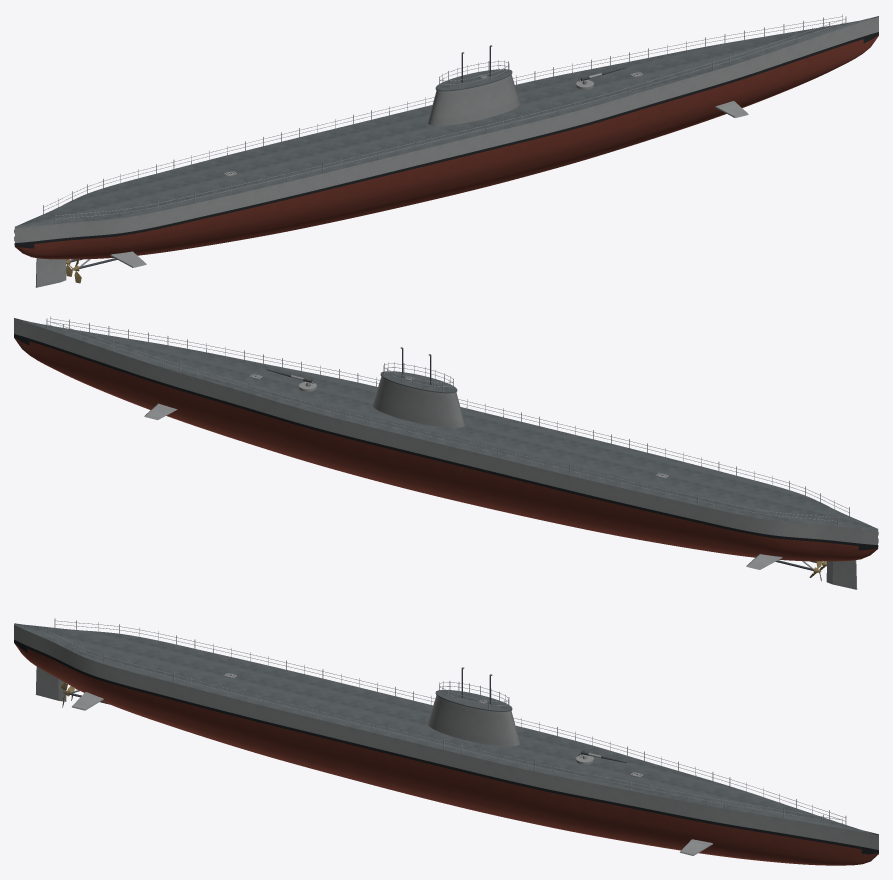
File: ecole_ss37.glb
3 views of the same model, one above another, from view 1: azimuth 30°, elevation 25°; view 2: azimuth 150°, elevation 25°; view 3: azimuth 330°, elevation 25° (orthographic).
Visible parts, largest first — view 1: École submarine, 1937; view 2: École submarine, 1937; view 3: École submarine, 1937.
Boxes of the visible parts, left/top/right/bottom form: École submarine, 1937: left=14, top=14, right=878, bottom=287; École submarine, 1937: left=14, top=316, right=878, bottom=589; École submarine, 1937: left=14, top=618, right=878, bottom=865.
Size of the model in its own units: 95 by 14.22 by 11.7.
Materials: 6 (6 with a texture image).
